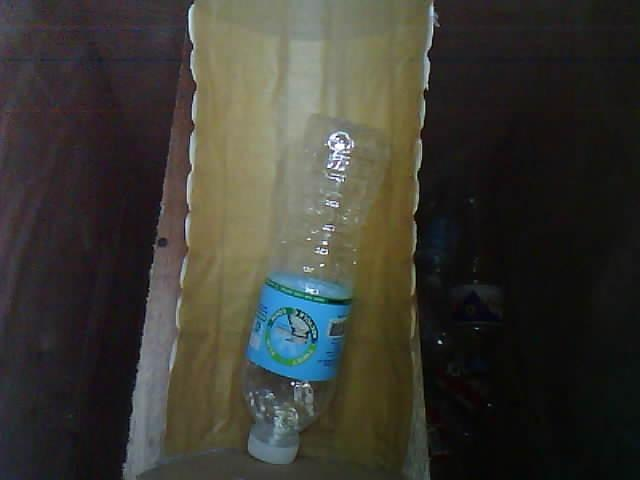small_bottle: (226, 106, 408, 480)
